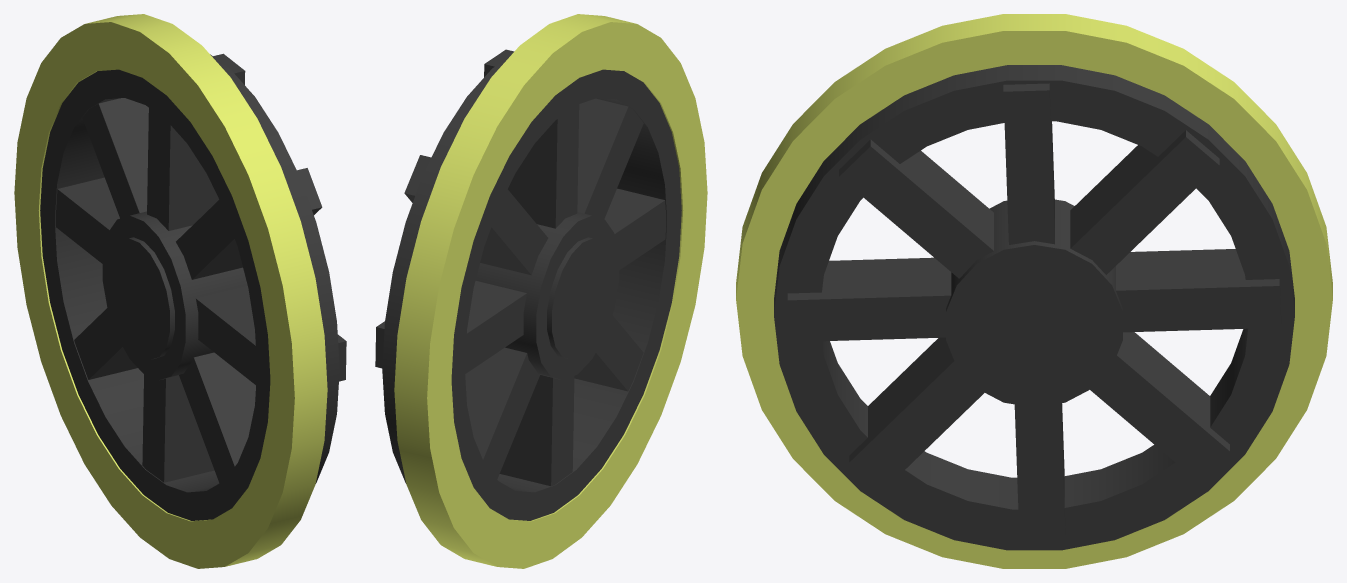
Rendered from Loc_r8.fbx.
3 views of the same model, side by side, from view 1: azimuth 30°, elevation 25°; view 2: azimuth 150°, elevation 25°; view 3: azimuth 270°, elevation 25° (orthographic). The views are drawn at different scales.
Parts seen in each view (by area): view 1: Tube002; view 2: Tube002; view 3: Tube002.
Boxes of the visible parts, x1,y1,x2,y2 form: Tube002: (14,14,346,568); Tube002: (375,14,707,568); Tube002: (736,14,1332,568).
Bounding box in the file's own units: 87.19 × 428 × 430.
